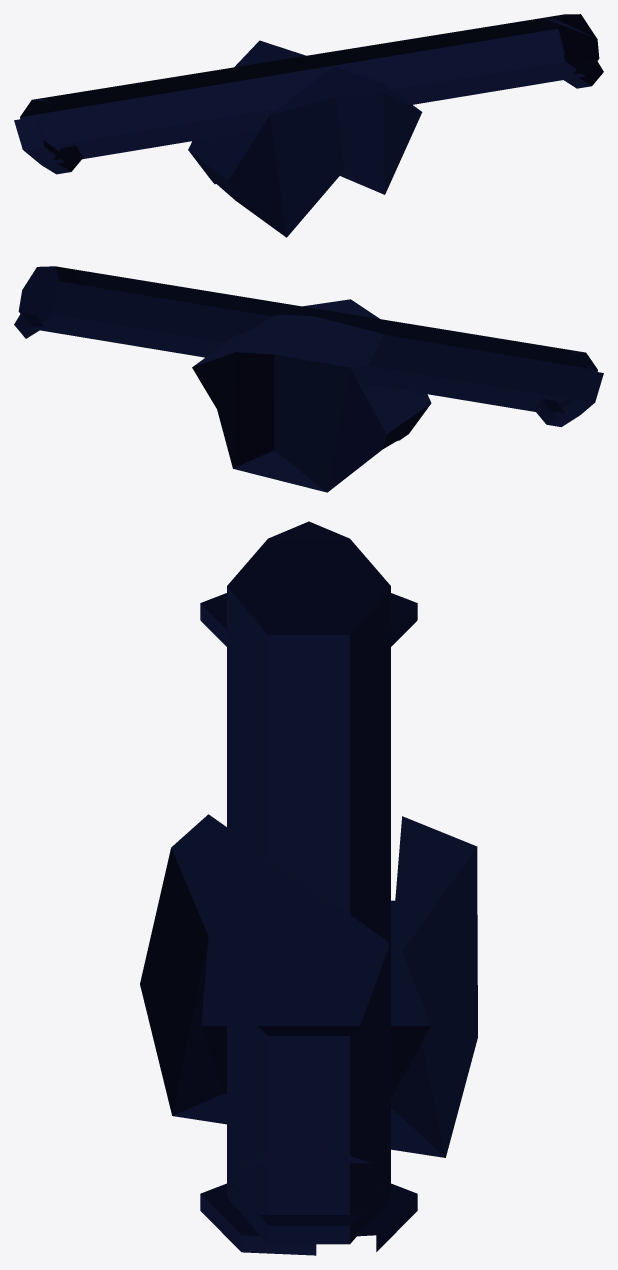
The model's file is gangora.fbx.
The picture shows the model from 3 angles, top to bottom: view 1: azimuth 30°, elevation 25°; view 2: azimuth 150°, elevation 25°; view 3: azimuth 270°, elevation 25°; orthographic projection. The views are drawn at different scales.
Parts seen in each view (by area): view 1: Circle.001, Circle; view 2: Circle.001, Circle; view 3: Circle.001, Circle.
Boxes of the visible parts, x1,y1,x2,y2 form: Circle.001: [14, 14, 603, 174]; Circle: [188, 40, 422, 237]; Circle.001: [14, 266, 603, 427]; Circle: [192, 299, 431, 492]; Circle.001: [200, 521, 417, 1255]; Circle: [140, 814, 477, 1157].
Size of the model in its own units: 881 by 260 by 238.
